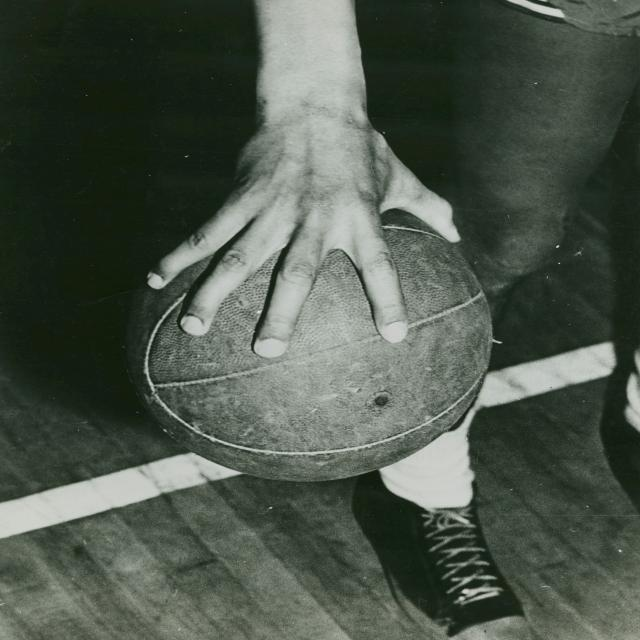Basketball: (130, 196, 491, 481)
